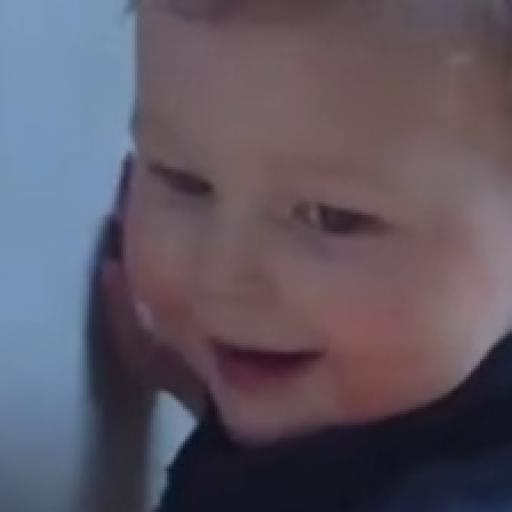Autism: (127, 5, 512, 489)
